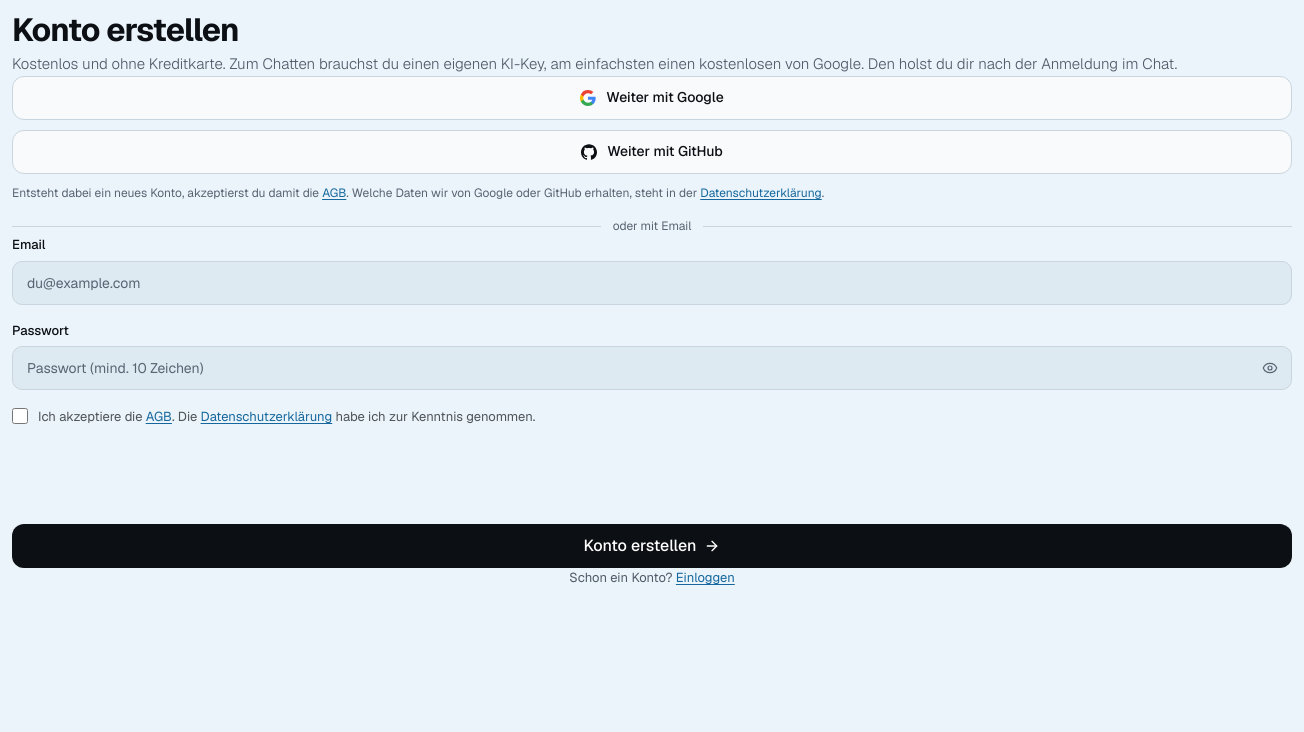
Scenario: SignUpExperience › weist das bekannte Passwort Password123456 ab, ohne die Route zu rufen
Step 1. Type "user@example.com" into the field with placeholder "du@example.com" → (652, 283), box left=12, top=261, right=1292, bottom=305
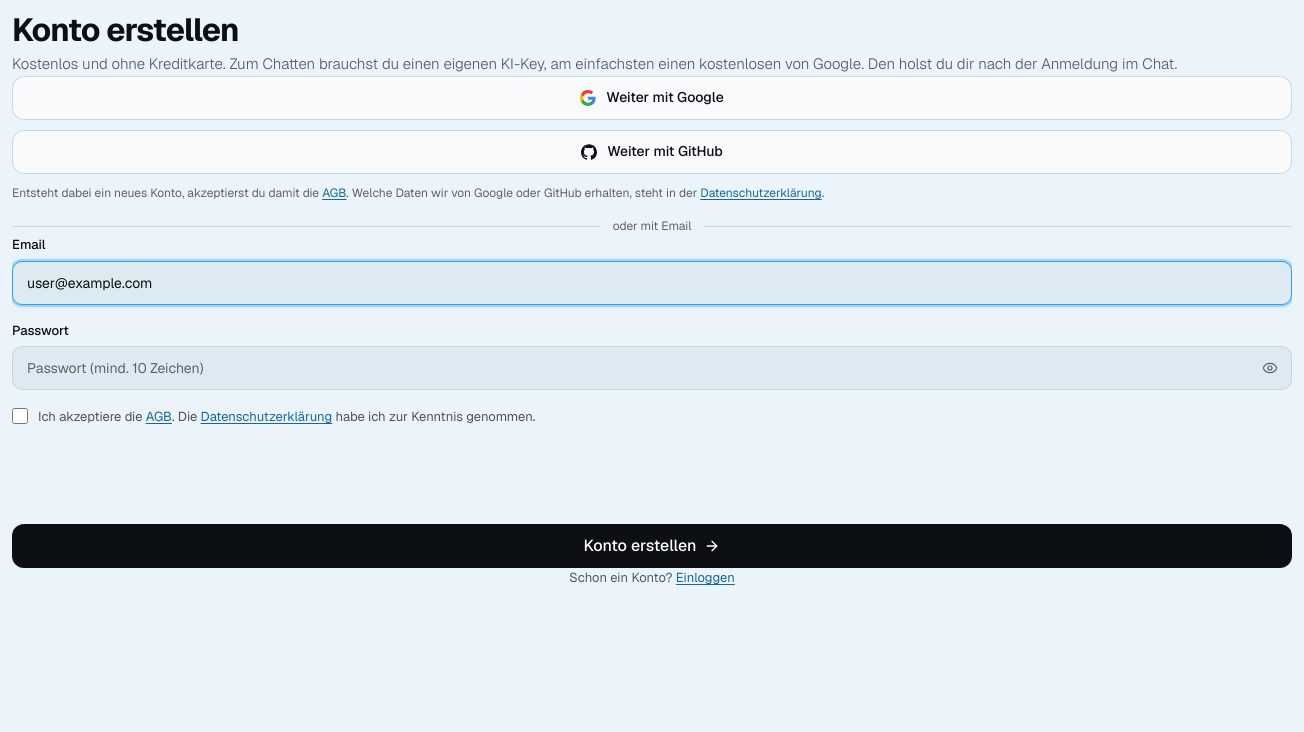
Step 2. Type "Password123456" into the password field with placeholder "Passwort (mind. 10 Zeichen)" → (652, 368), box left=12, top=346, right=1292, bottom=390
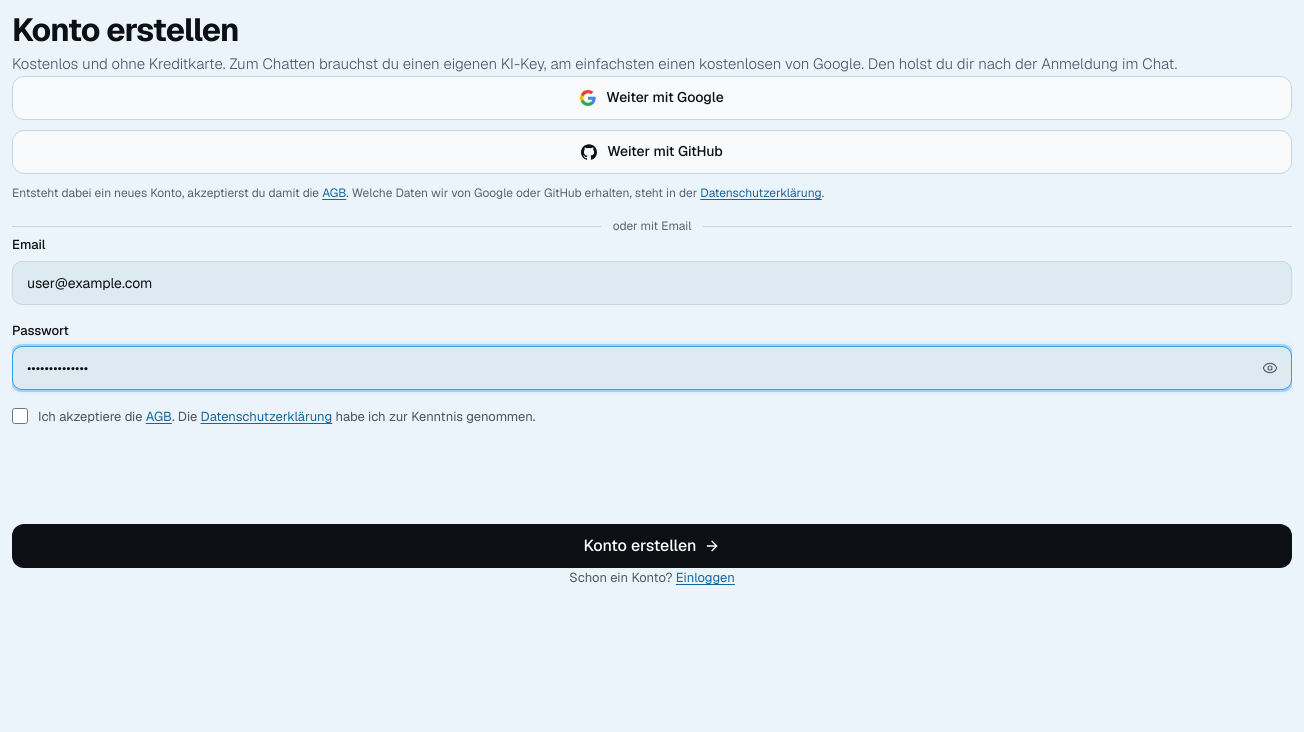
Step 3. Click the checkbox → (20, 416), box left=12, top=408, right=28, bottom=424
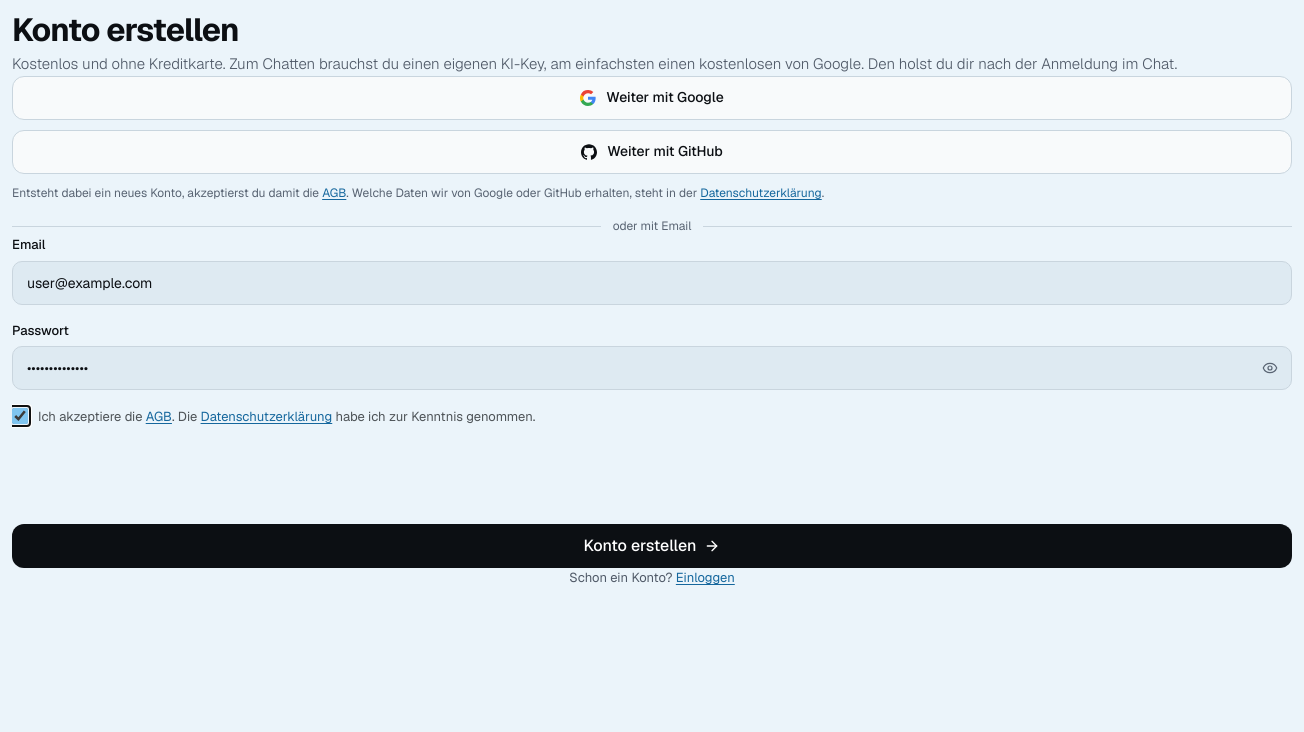
Step 4. Submit the form with placeholder "du@example.com", box left=12, top=235, right=1292, bottom=568
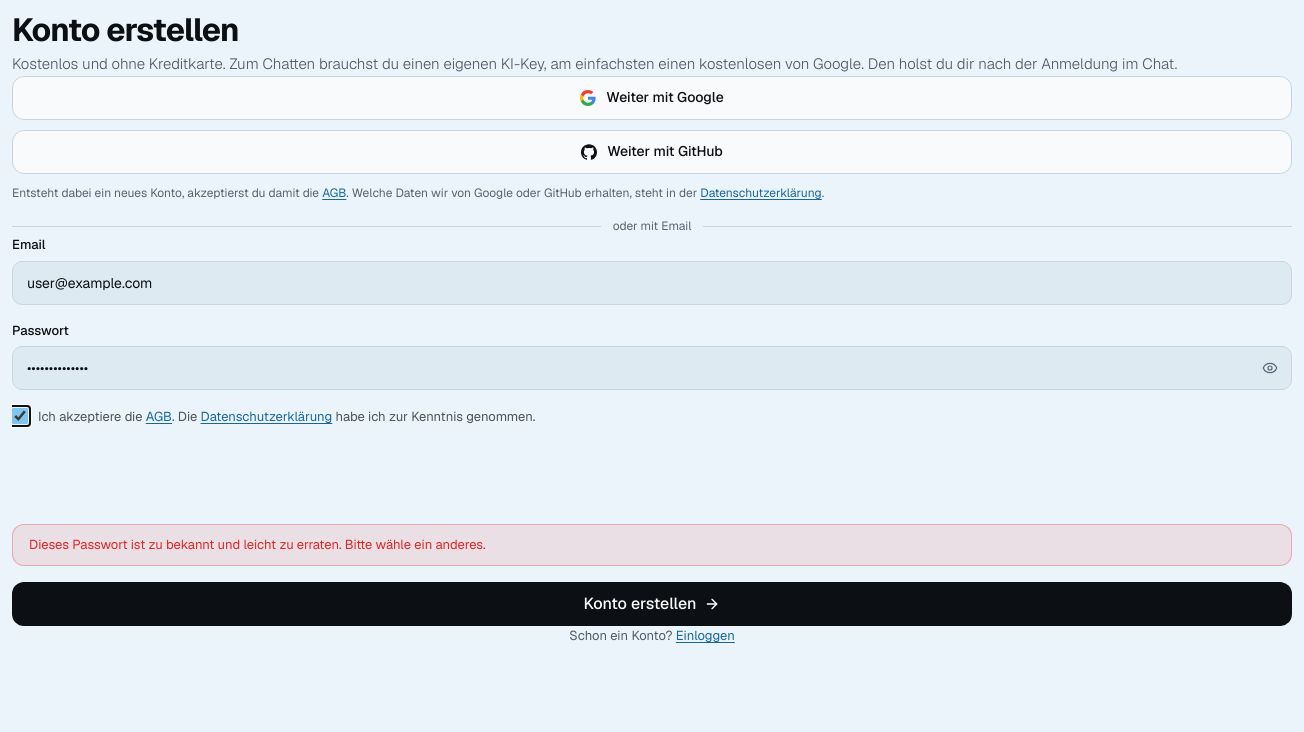
Expected: the message shows "bekannt", left=29, top=536, right=486, bottom=553
